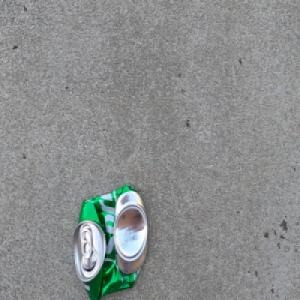SodaCan: (72, 183, 148, 300)
